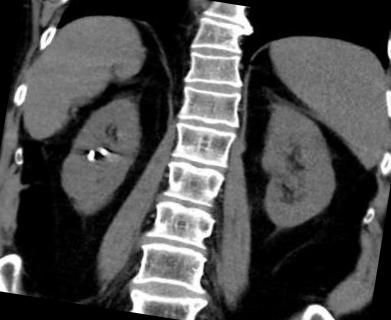Tas_Var: (84, 148, 94, 162), (98, 146, 107, 156)
